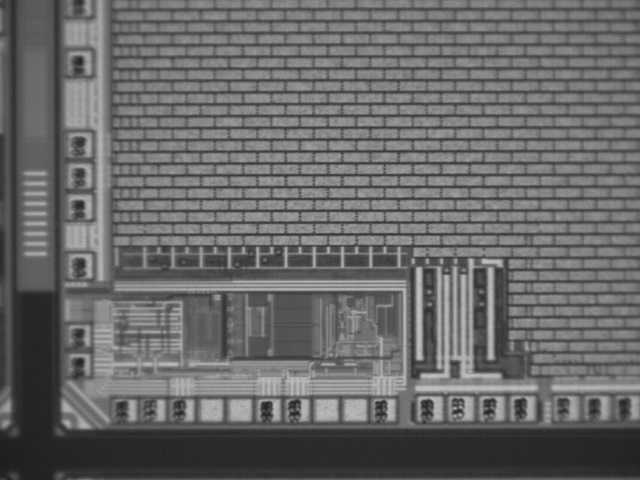over: (61, 47, 96, 80), (61, 127, 96, 160), (61, 158, 96, 191), (61, 190, 96, 223), (62, 249, 97, 282), (60, 317, 95, 350), (59, 348, 94, 381), (105, 394, 140, 427), (133, 394, 168, 427), (161, 393, 196, 426), (249, 393, 284, 426), (278, 394, 313, 427), (365, 394, 400, 427), (411, 392, 446, 425), (443, 391, 478, 424), (474, 391, 509, 424), (505, 392, 540, 425), (548, 392, 583, 425), (579, 392, 614, 425), (611, 393, 640, 425), (58, 1, 94, 21)
